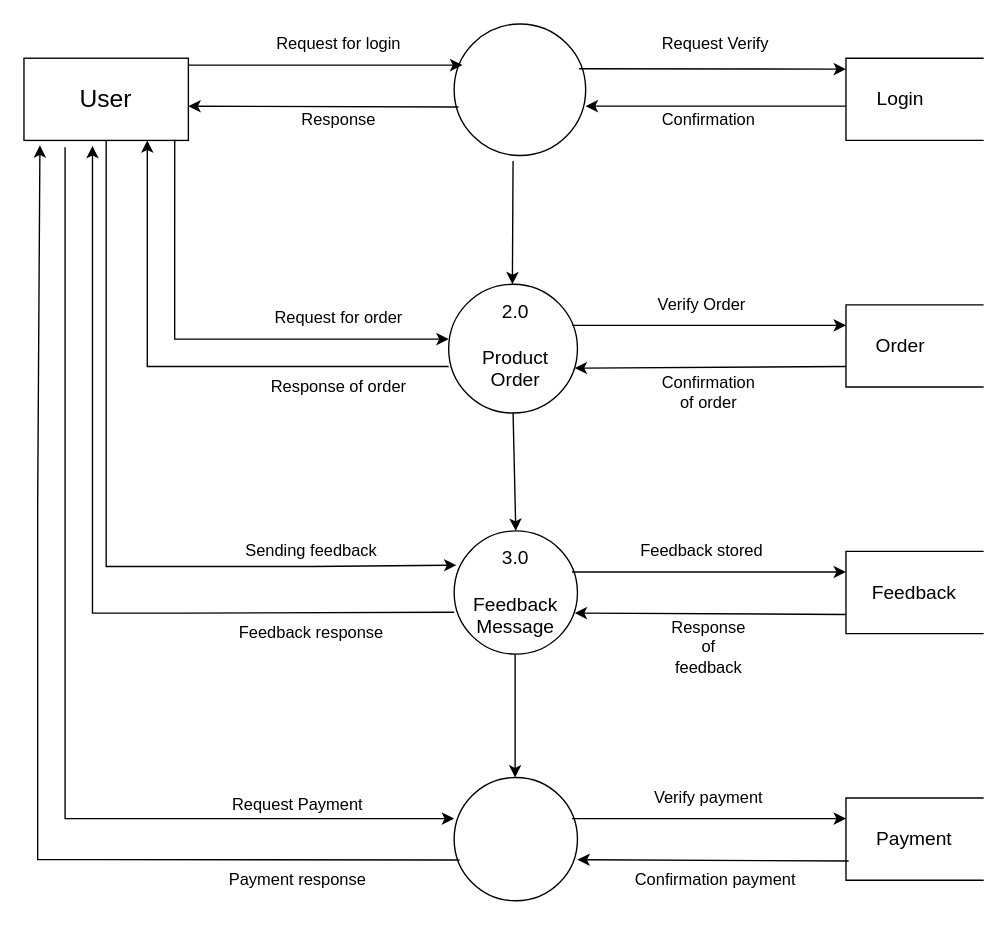
Some shapes in this 1007 by 925 pixel diagram are drawn without their labels. Here are the shapes that lost their labels. From the top down, the centre of each, then its label:
At [519,89]: "1.0 Login".
At [515,838]: "4.0 Payment".
